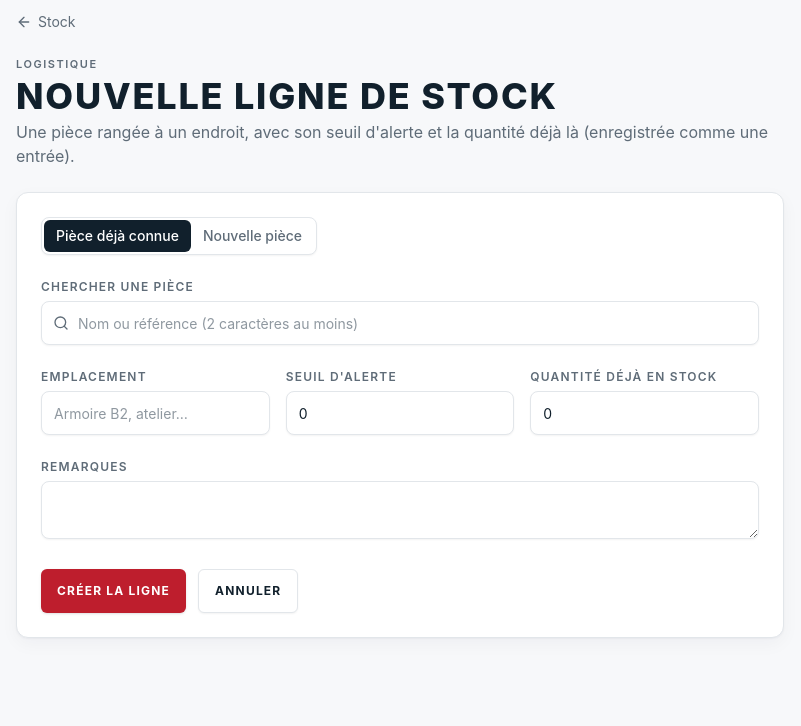
Test case: NewStockLine › says what is missing
Click the button "Créer la ligne": {"x": 114, "y": 591} [41,569,186,613]
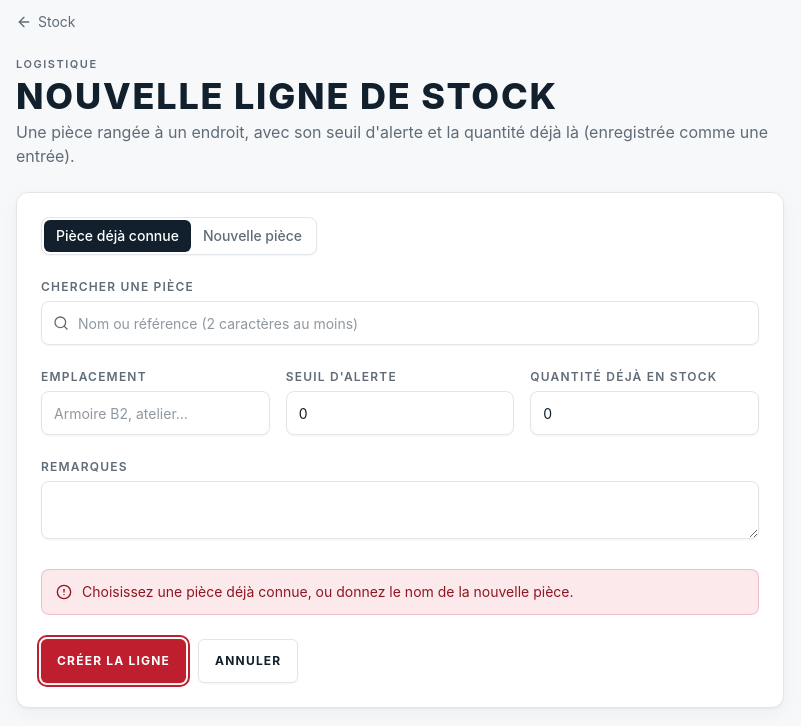
Expected: the message shows "Choisissez une pièce déjà connue", [82,583,574,600]
